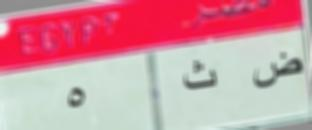5: (63, 82, 90, 118)
daad: (252, 46, 304, 98)
thaa: (181, 56, 219, 94)
